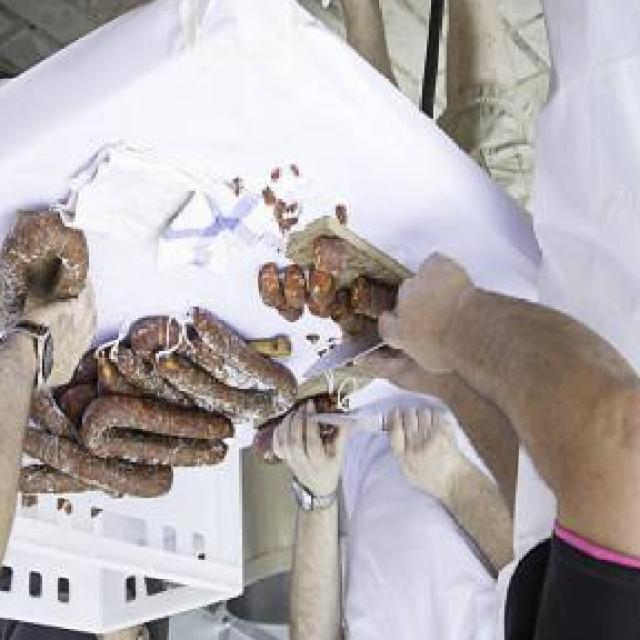knife: (302, 319, 404, 387), (301, 404, 402, 440)
